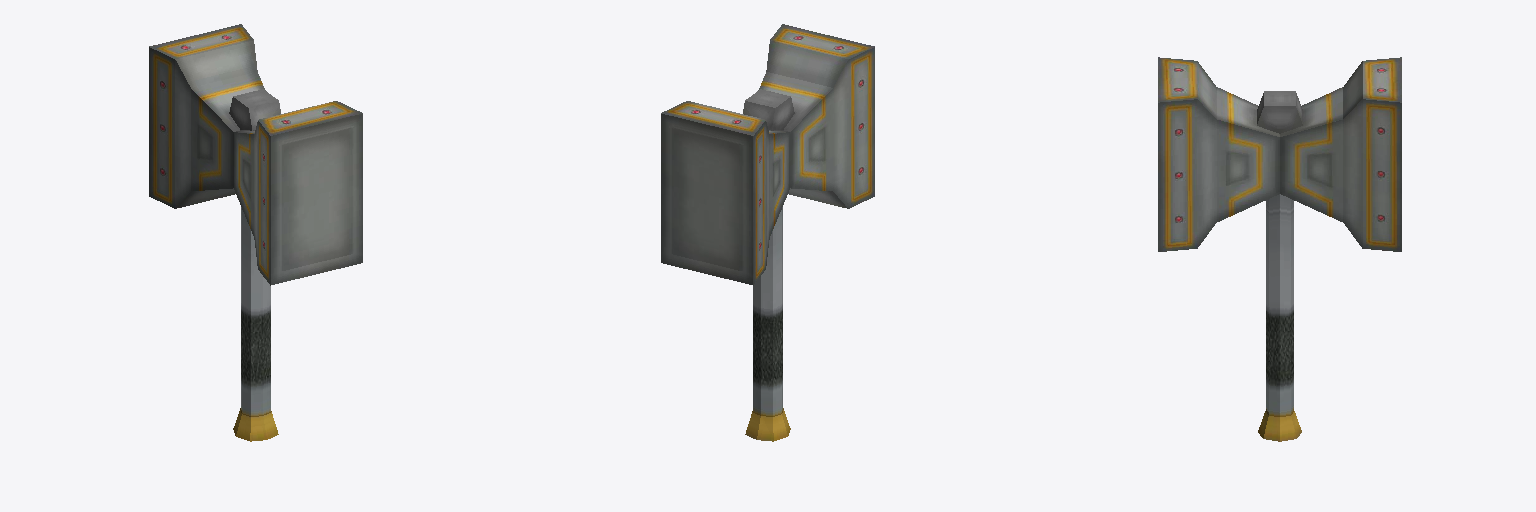
3 views of the same model, side by side, from view 1: azimuth 30°, elevation 25°; view 2: azimuth 150°, elevation 25°; view 3: azimuth 270°, elevation 25° (orthographic).
Bounding box in the file's own units: 0.6834 × 2.47 × 1.55.
Materials: 1 (1 with a texture image).